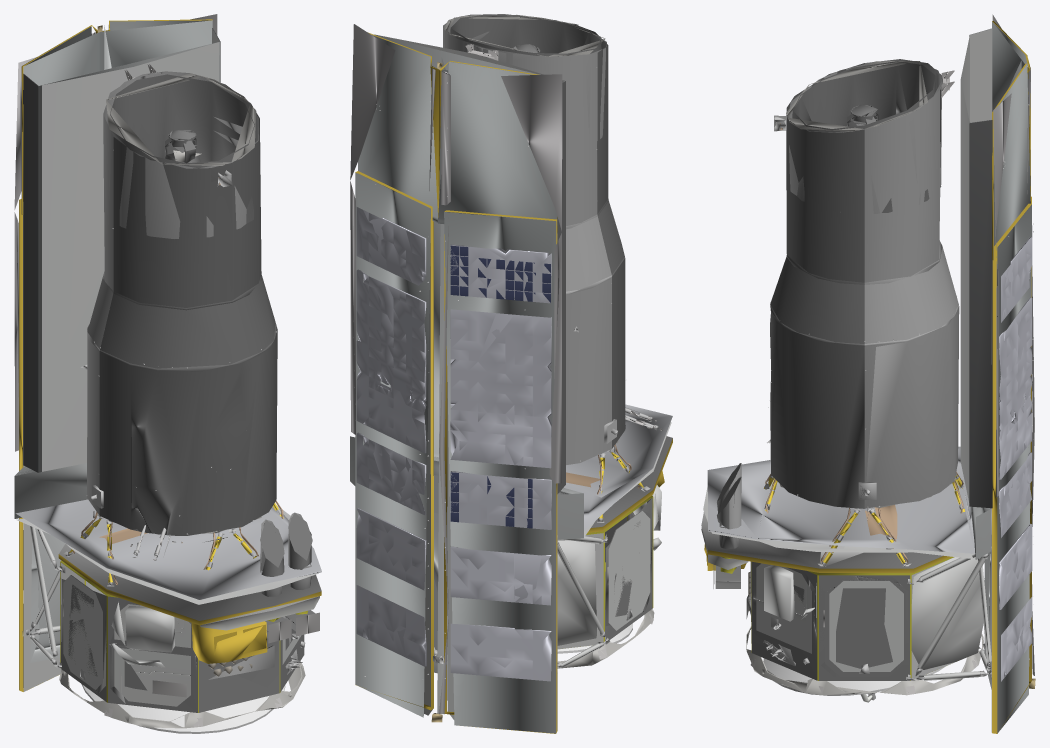
File: spitzer.glb
3 views of the same model, side by side, from view 1: azimuth 30°, elevation 25°; view 2: azimuth 150°, elevation 25°; view 3: azimuth 270°, elevation 25° (orthographic). The views are drawn at different scales.
Parts seen in each view (by area): view 1: Fake; view 2: Fake; view 3: Fake.
Boxes of the visible parts, x1,y1,x2,y2 form: Fake: (14,14,321,733); Fake: (350,14,672,733); Fake: (701,14,1035,733).
Bounding box in the file's own units: 0.7264 × 2 × 0.9464.
